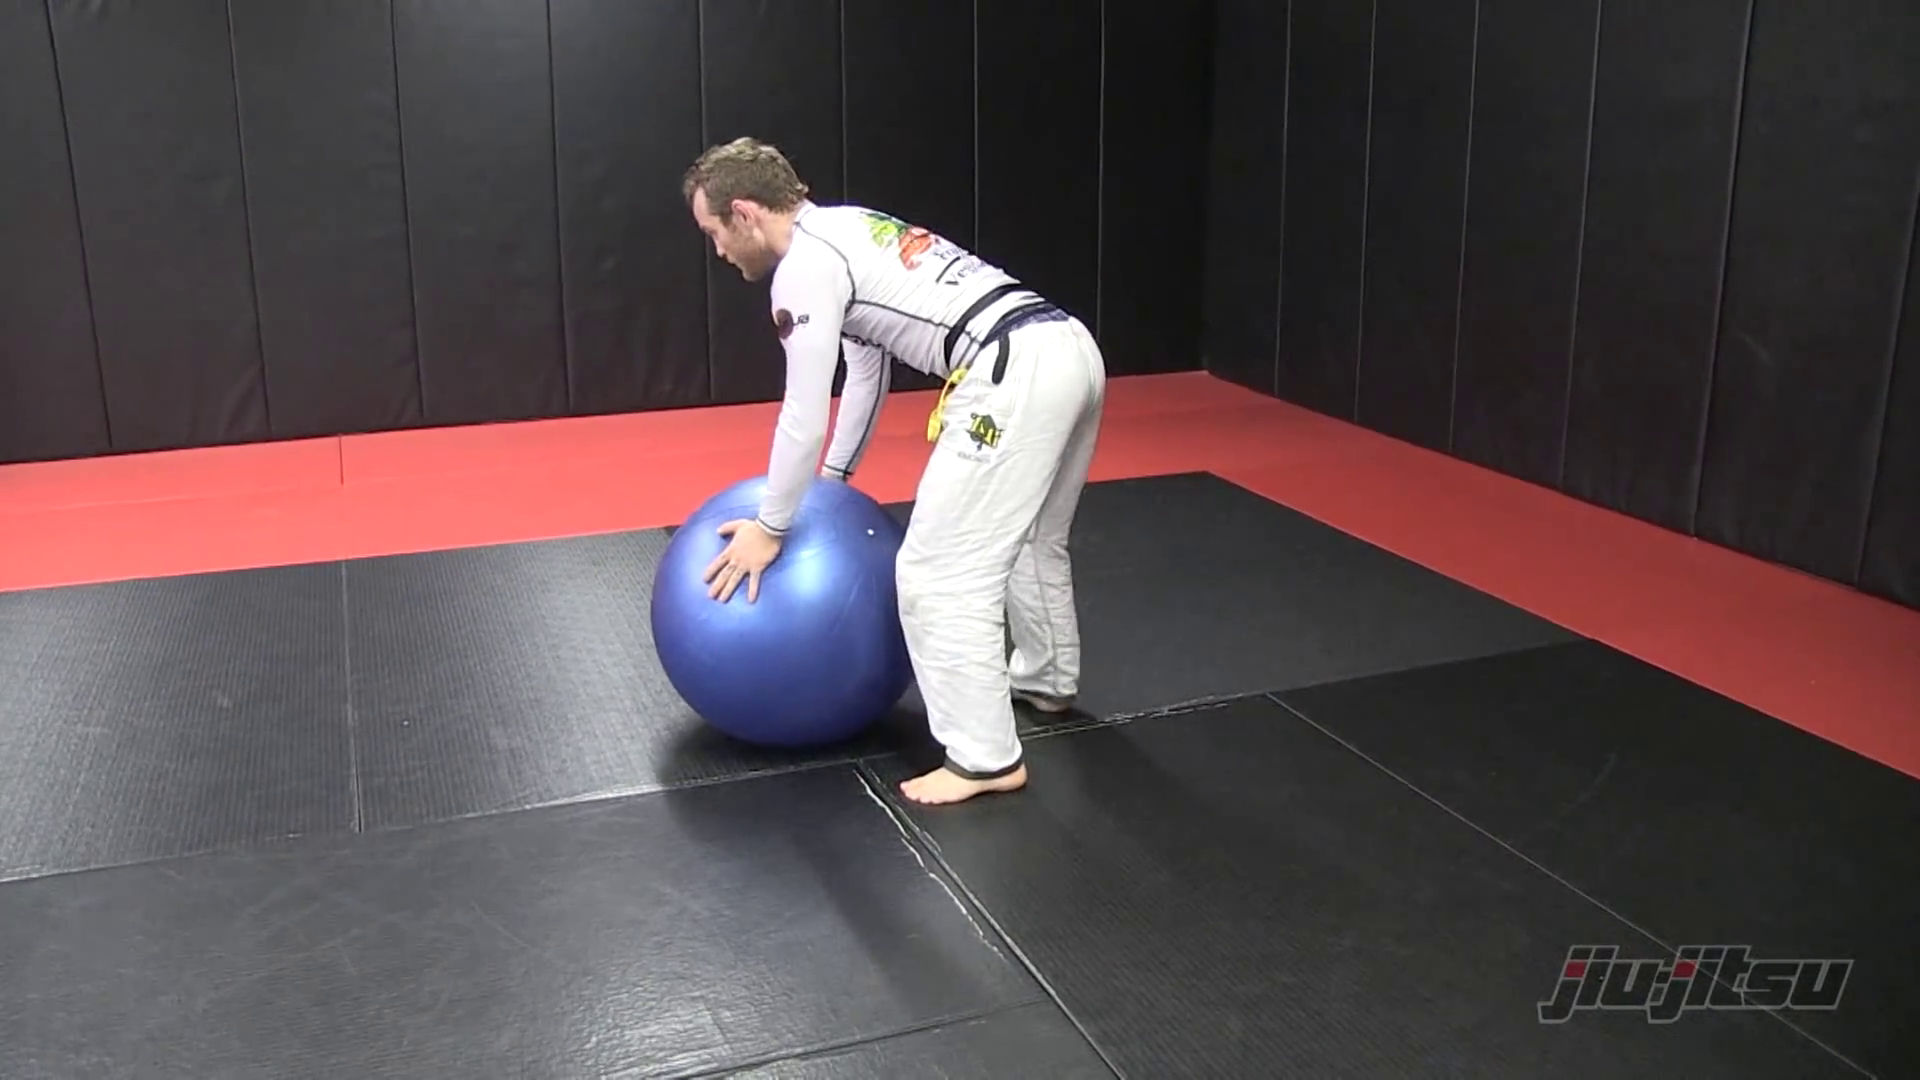yogaball: (638, 469, 949, 775)
